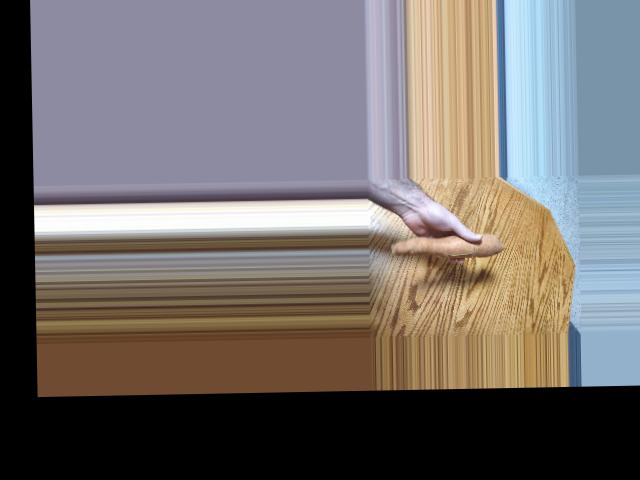sweet_potato: (390, 228, 498, 262)
